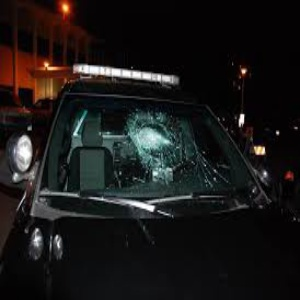front_windshield_glass: (66, 104, 226, 197)
